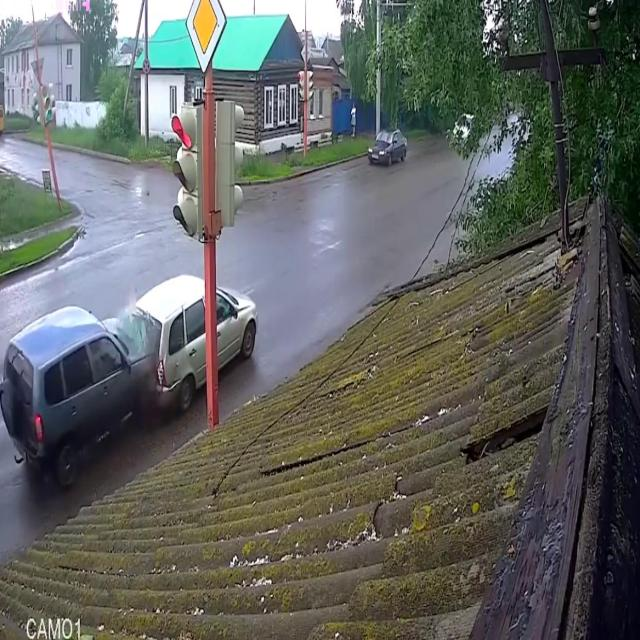accident: (0, 271, 260, 529)
